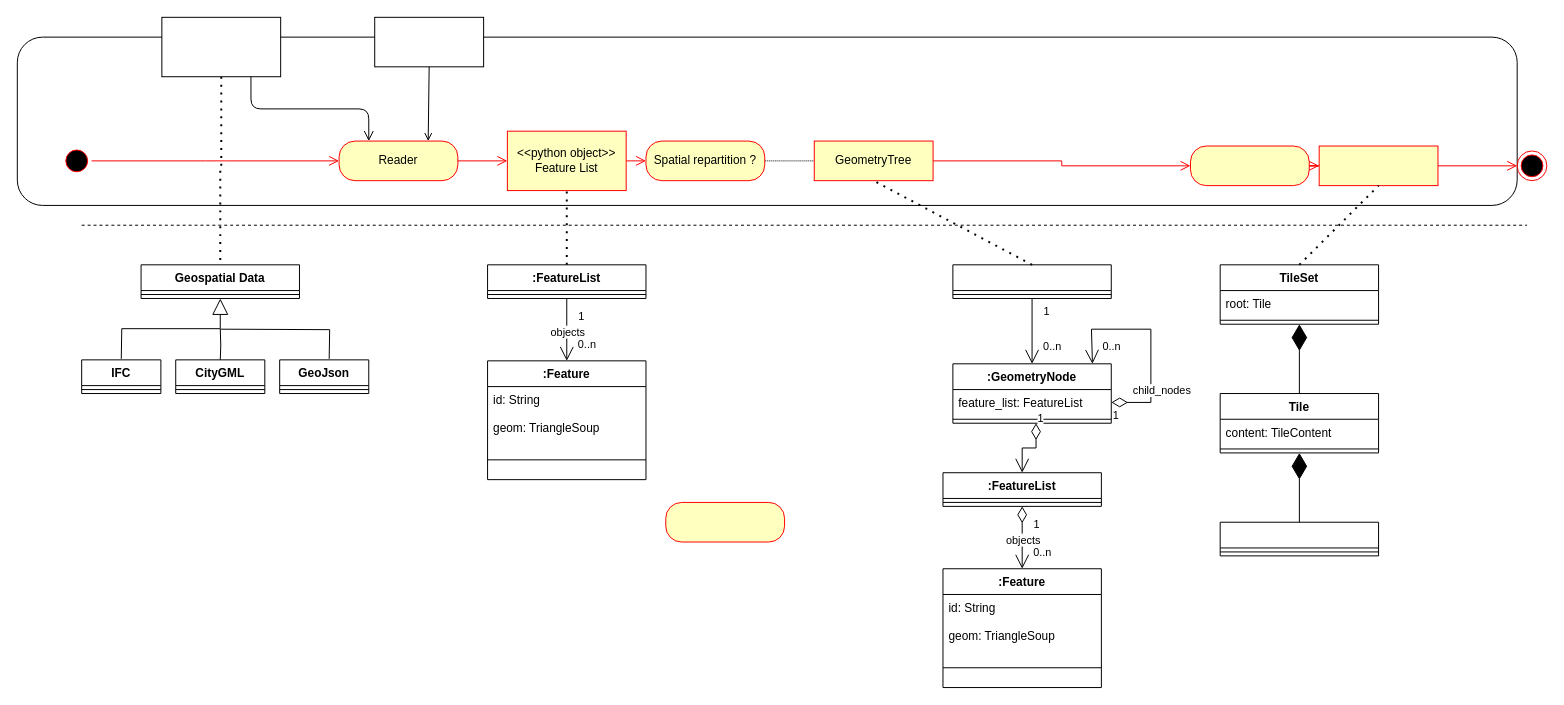
Some shapes in this 1564 by 705 pixel diagram are drawn without their labels. The shapes that lost their labels are listed below. From the top down, each one's centre as x and y in pixels, then its label:
(x=221, y=46): <<file>> Geospatial data
(x=429, y=41): CL arguments
(x=1249, y=165): 3D tiles Writer
(x=1378, y=165): <<file>> 3DTiles Tileset
(x=1031, y=281): :GeometryTree
(x=725, y=521): LOD creation
(x=1299, y=538): TileContent
